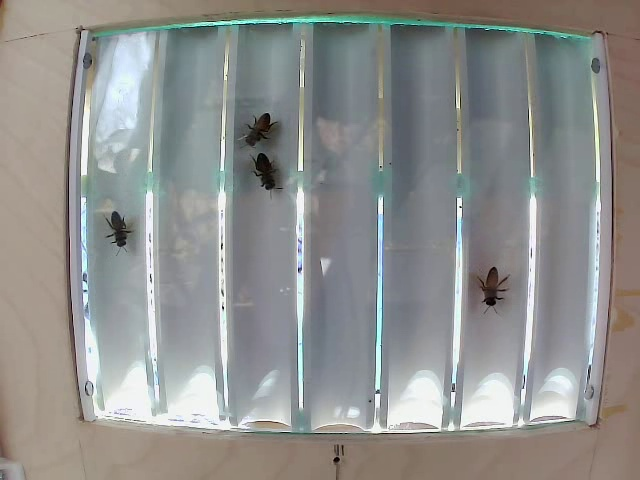bee: (475, 256, 512, 320), (101, 217, 150, 263), (243, 150, 281, 201), (239, 110, 281, 149)
